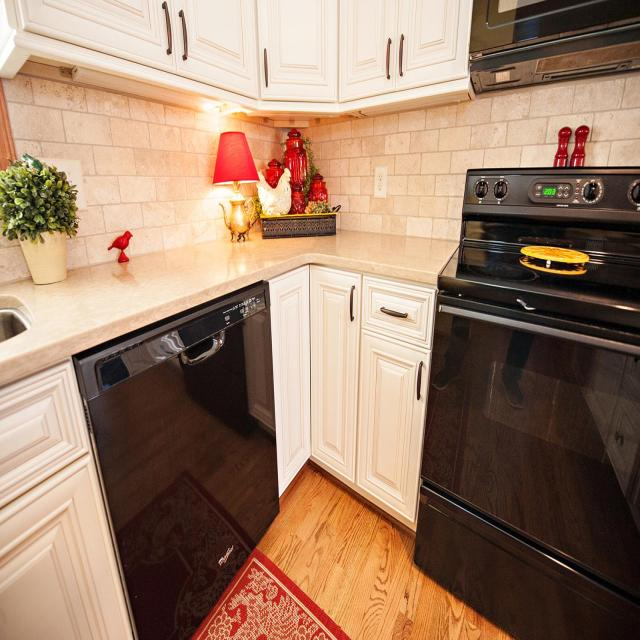dishwasher: (55, 267, 291, 640)
